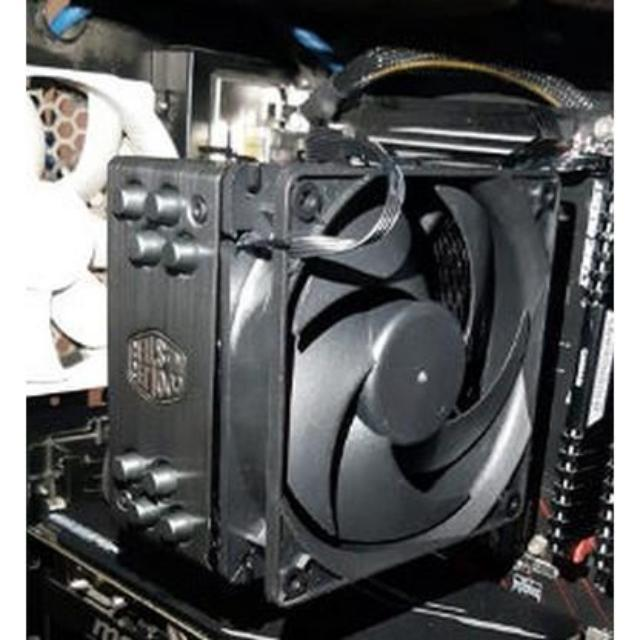CPU_Fan: (102, 138, 542, 594)
